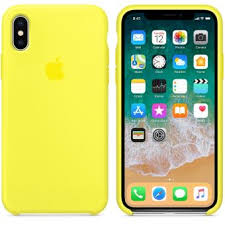iphone: (1, 2, 111, 215), (117, 4, 219, 212)
iphone10: (1, 5, 112, 215), (116, 3, 221, 214)
